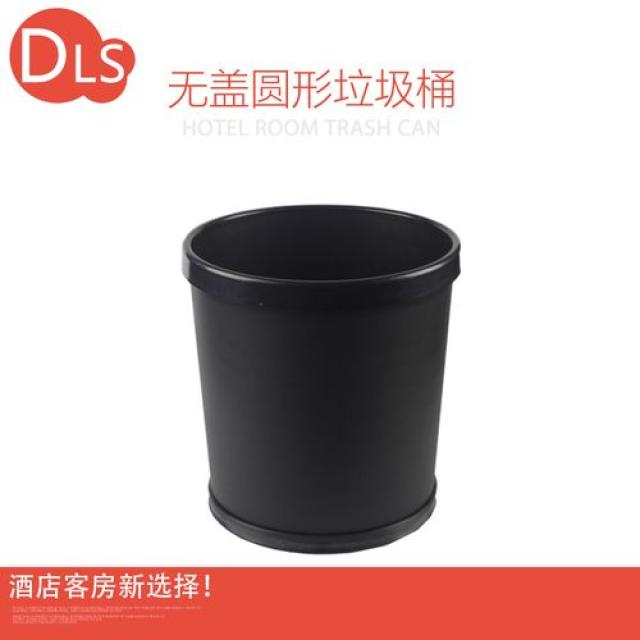dustbin: (176, 200, 469, 556)
